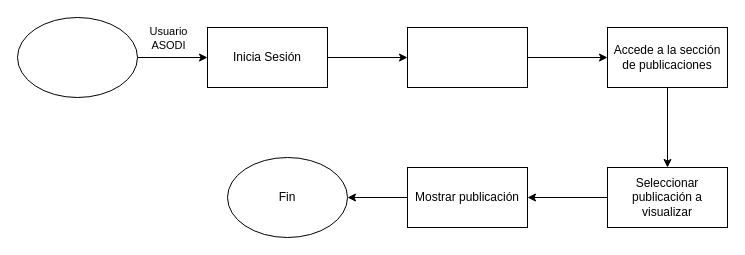
Image size: 745x255. Some labels were removed from this diagram. The shapes that lost their labels are listed below. From the top down, each one's centre as x and y in pixels, then its label:
At [77,57]: "Inicio".
At [467,57]: "Gestión de publicaciones informativas".
